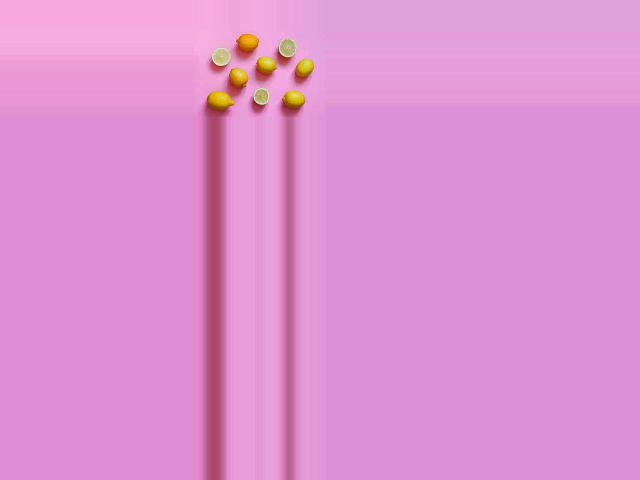lemon: (278, 93, 306, 111)
